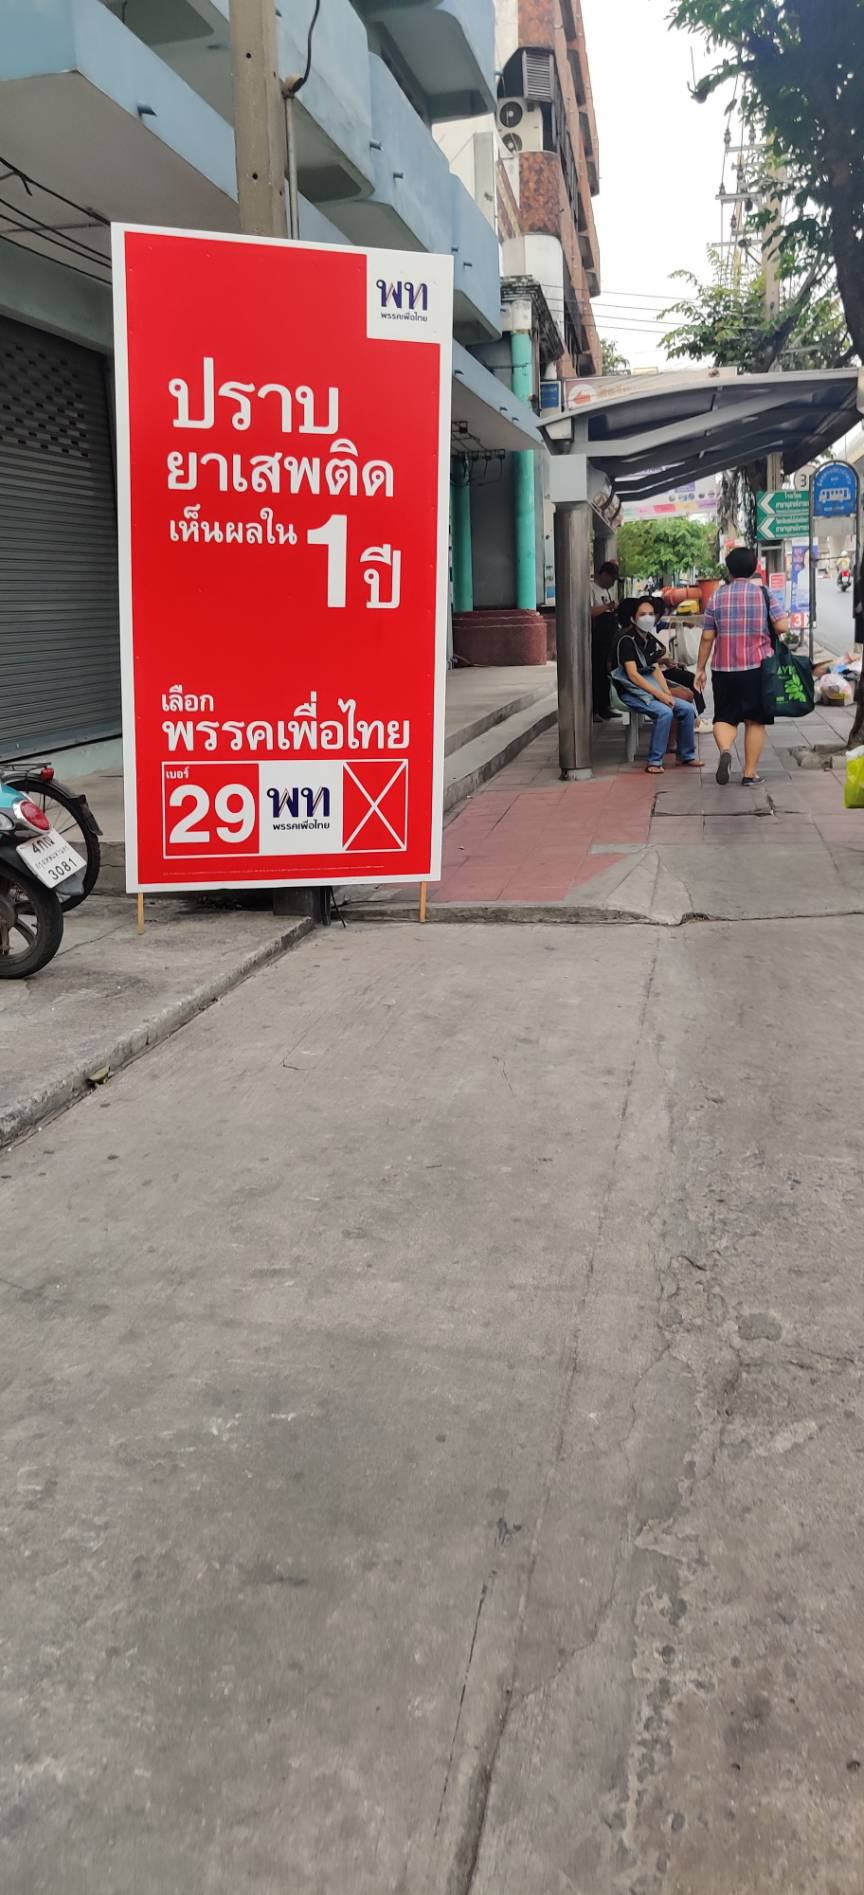Banner: (109, 220, 443, 886)
